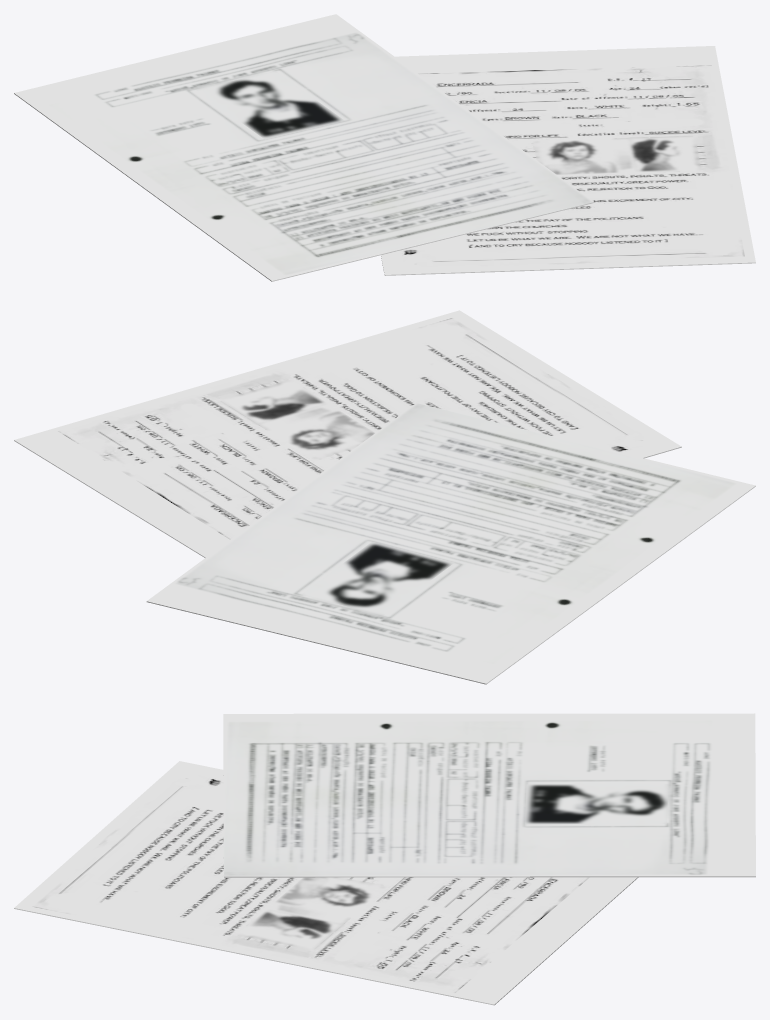
Rendered from Papers.FBX.
The picture shows the model from 3 angles, top to bottom: view 1: azimuth 30°, elevation 25°; view 2: azimuth 150°, elevation 25°; view 3: azimuth 270°, elevation 25°; orthographic projection. The views are drawn at different scales.
Parts seen in each view (by area): view 1: papers; view 2: papers; view 3: papers.
Part boxes in pixels (<box>): papers: <box>14,14,755,281</box>; papers: <box>14,310,755,684</box>; papers: <box>14,713,755,1005</box>.
Size of the model in its own units: 37.44 by 0.1034 by 40.44.
Materials: 1 (1 with a texture image).
